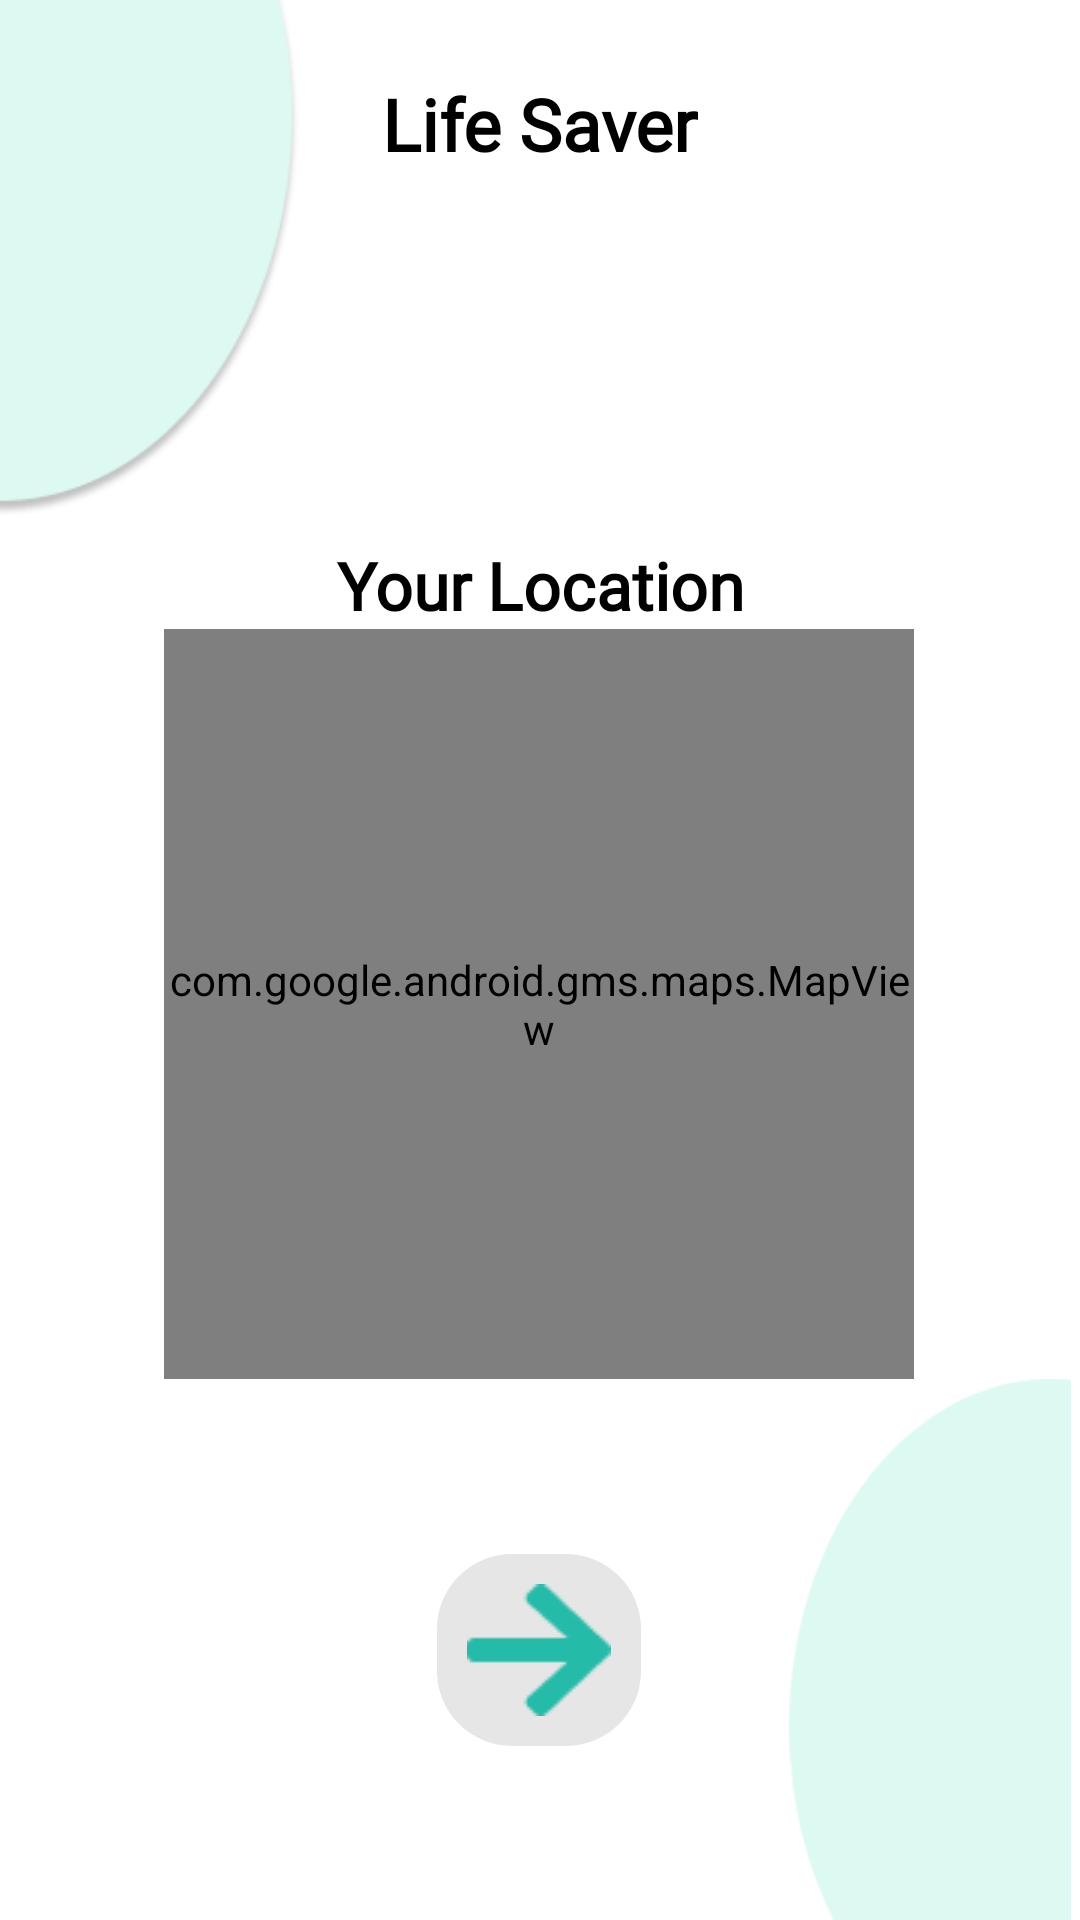

Screen size 1080x1920. Icon name, then its center in pixels as point (x, y):
forward arrow: point (539, 1650)
